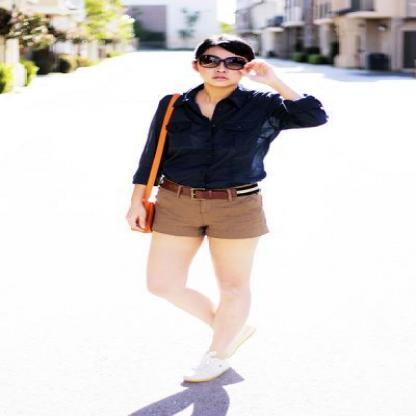bag: (111, 83, 204, 234)
shirt: (133, 86, 328, 191)
shoe: (196, 358, 228, 380)
shorts: (155, 186, 267, 240)
sunglass: (212, 57, 253, 69)
